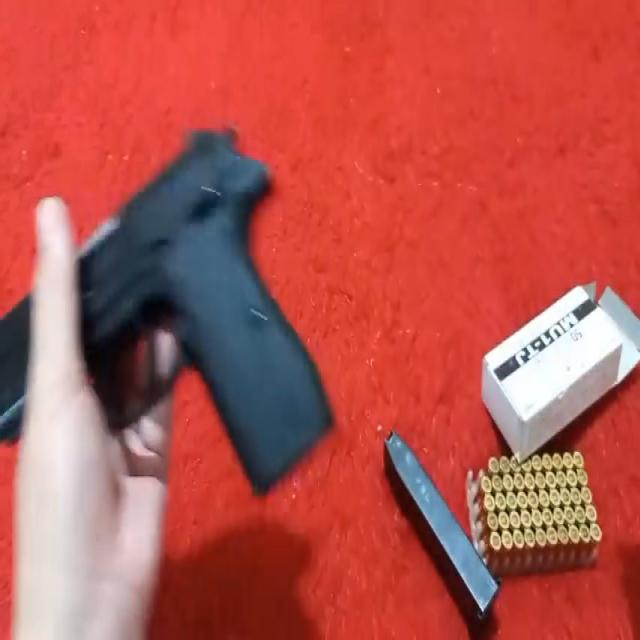handgun: (17, 117, 346, 513)
